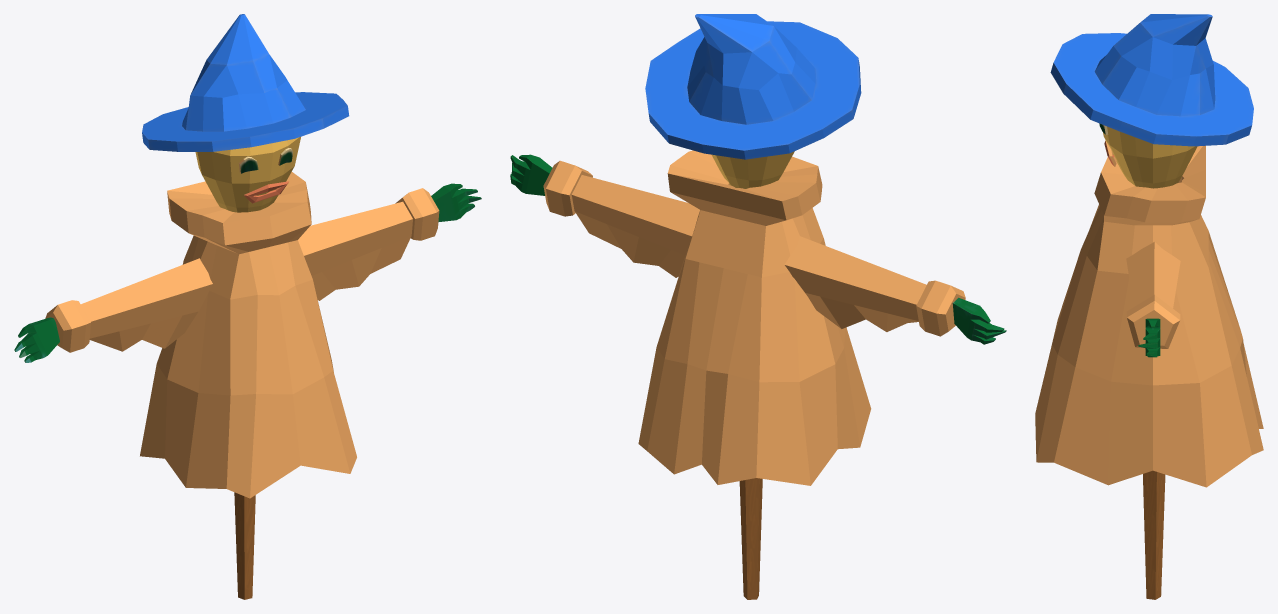
File: scarecrowWithHat.fbx
The picture shows the model from 3 angles, left to right: view 1: azimuth 30°, elevation 25°; view 2: azimuth 150°, elevation 25°; view 3: azimuth 270°, elevation 25°; orthographic projection. The views are drawn at different scales.
Parts seen in each view (by area): view 1: Hut; view 2: Hut; view 3: Hut.
Boxes of the visible parts, <box> form: Hut: <box>14,14,481,599</box>; Hut: <box>510,14,1006,599</box>; Hut: <box>1035,14,1263,599</box>.
Bounding box in the file's own units: 793 × 913 × 319.
Materials: 1 (1 with a texture image).
